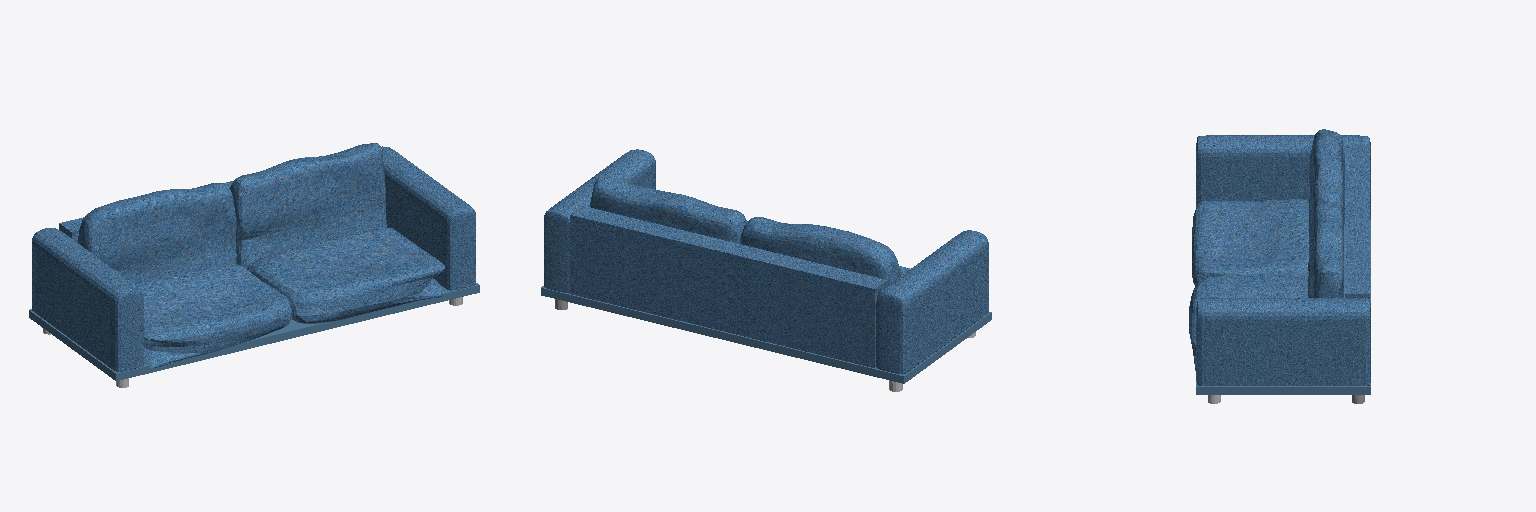
3 views of the same model, side by side, from view 1: azimuth 30°, elevation 25°; view 2: azimuth 150°, elevation 25°; view 3: azimuth 270°, elevation 25° (orthographic).
Visible parts, largest first — view 1: Cube.007_Cube.011, Cube.005_Cube.009, Cube.004_Cube.012, Cube.006_Cube.010, Cube.002, Cube.001, Cube; view 2: Cube.003_Cube.005, Cube.002, Cube.004_Cube.012, Cube.007_Cube.011, Cube.001, Cube; view 3: Cube.001, Cube.006_Cube.010, Cube.002, Cube.003_Cube.005, Cube.007_Cube.011, Cube.005_Cube.009, Cube.004_Cube.012, Cube.
Boxes of the visible parts, x1,y1,x2,y2 form: Cube.007_Cube.011: [230, 143, 386, 268]; Cube.005_Cube.009: [247, 227, 444, 323]; Cube.004_Cube.012: [78, 183, 237, 284]; Cube.006_Cube.010: [136, 264, 292, 367]; Cube.002: [32, 228, 143, 371]; Cube.001: [382, 146, 475, 290]; Cube: [29, 283, 479, 380]; Cube.003_Cube.005: [570, 206, 886, 367]; Cube.002: [876, 230, 988, 374]; Cube.004_Cube.012: [740, 217, 900, 285]; Cube.007_Cube.011: [590, 177, 747, 243]; Cube.001: [544, 149, 655, 293]; Cube: [541, 286, 991, 383]; Cube.001: [1196, 298, 1370, 385]; Cube.006_Cube.010: [1192, 199, 1308, 285]; Cube.002: [1196, 135, 1370, 223]; Cube.003_Cube.005: [1345, 145, 1369, 298]; Cube.007_Cube.011: [1307, 202, 1343, 297]; Cube.005_Cube.009: [1189, 274, 1307, 370]; Cube.004_Cube.012: [1308, 129, 1343, 271]; Cube: [1196, 220, 1370, 394].
Bounding box in the file's own units: 3.27 × 1.09 × 1.42.
3 materials, 1 textured.